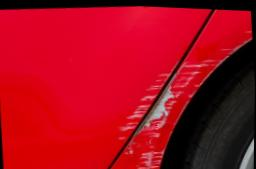Fender: (76, 21, 256, 169)
